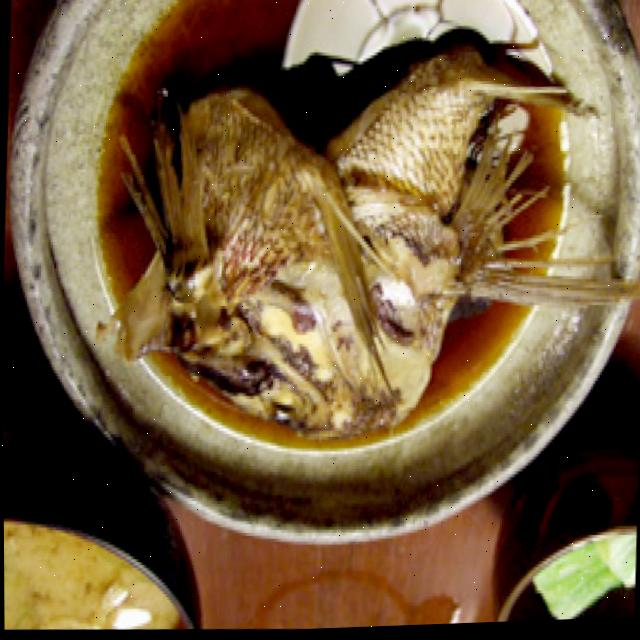熟制海鲜: (71, 0, 640, 480)
